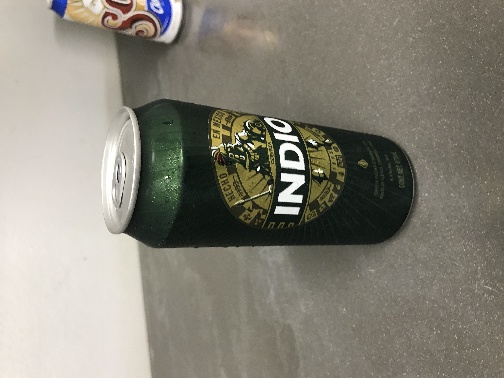IL: (73, 71, 306, 182)
